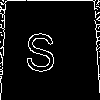S: (25, 25, 57, 72)
